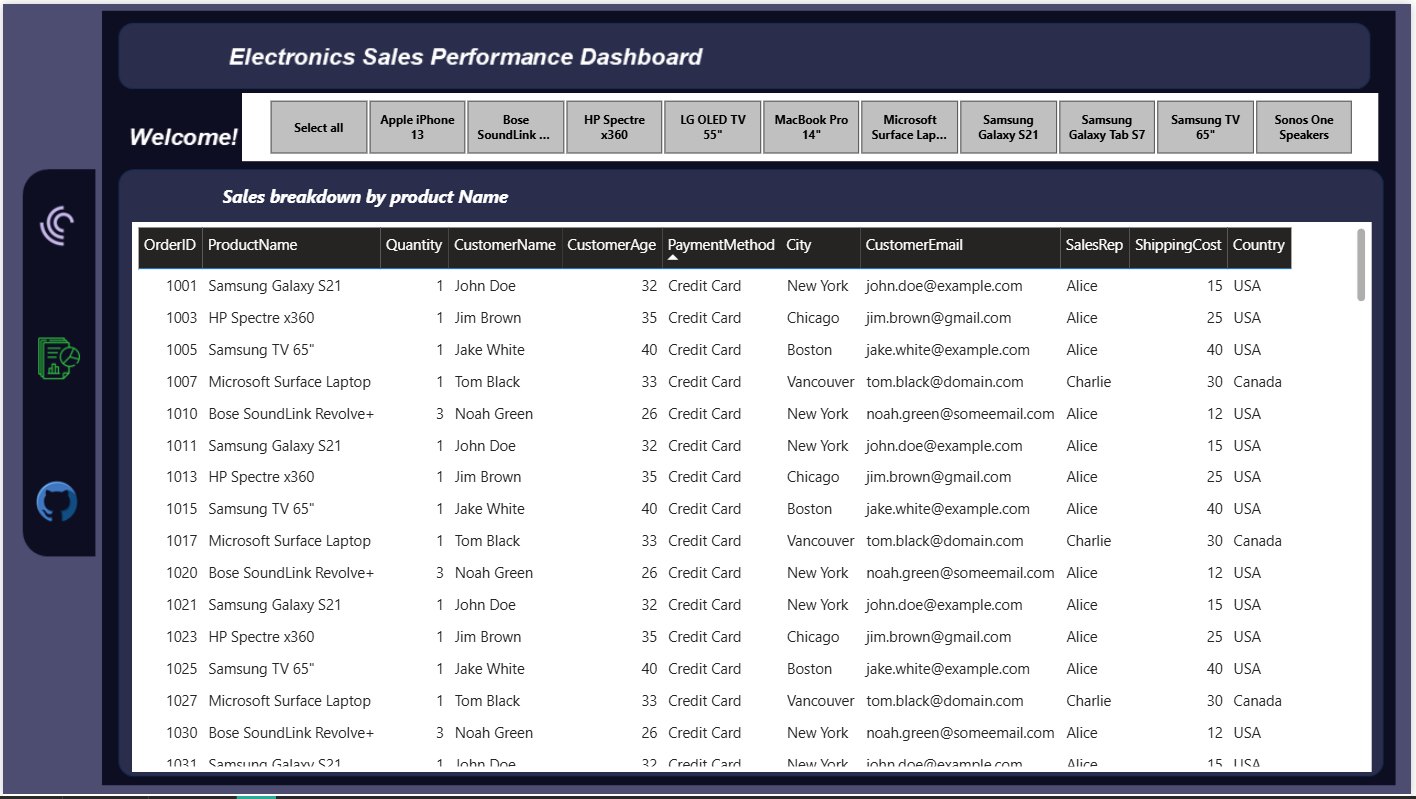

Layout of this report page (visuals, bound fields, positions):
{"tool":"powerbi","page":{"name":"Report 2","canvas":[1280,720],"ordinal":2},"visuals":[{"type":"tableEx","fields":{"Values":["Electronic Sales.OrderID","Electronic Sales.ProductName","Electronic Sales.Quantity","Electronic Sales.CustomerName","Electronic Sales.CustomerAge","Electronic Sales.PaymentMethod","Electronic Sales.City","Electronic Sales.CustomerEmail","Electronic Sales.SalesRep","Electronic Sales.ShippingCost","Electronic Sales.Country"]},"box":[117.6,198.4,1126.7,500],"z":0},{"type":"slicer","fields":{"Values":["Electronic Sales.ProductName"]},"box":[217.3,80.8,1033.3,61.9],"z":1000},{"type":"actionButton","box":[22.1,290.4,62.5,74],"z":2000},{"type":"actionButton","box":[22.1,418.3,62.5,77.9],"z":3000},{"type":"actionButton","box":[22,168,63,74],"z":4000},{"type":"textbox","box":[194.8,158.9,300.7,30.5],"z":5001}]}

Visuals, with their boxes in screenshot pixels (x1, y1, x2, y2):
tableEx - Electronic Sales.OrderID x Electronic Sales.ProductName: {"x1": 129, "y1": 221, "x2": 1404, "y2": 786}
slicer - Electronic Sales.ProductName: {"x1": 242, "y1": 88, "x2": 1411, "y2": 158}
actionButton: {"x1": 21, "y1": 325, "x2": 92, "y2": 408}
actionButton: {"x1": 21, "y1": 469, "x2": 92, "y2": 558}
actionButton: {"x1": 21, "y1": 186, "x2": 92, "y2": 270}
textbox: {"x1": 217, "y1": 176, "x2": 557, "y2": 211}
